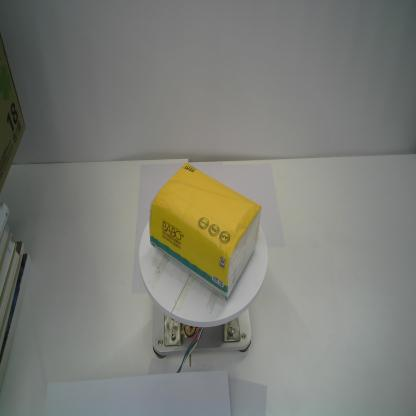Tissue: (149, 160, 261, 298)
